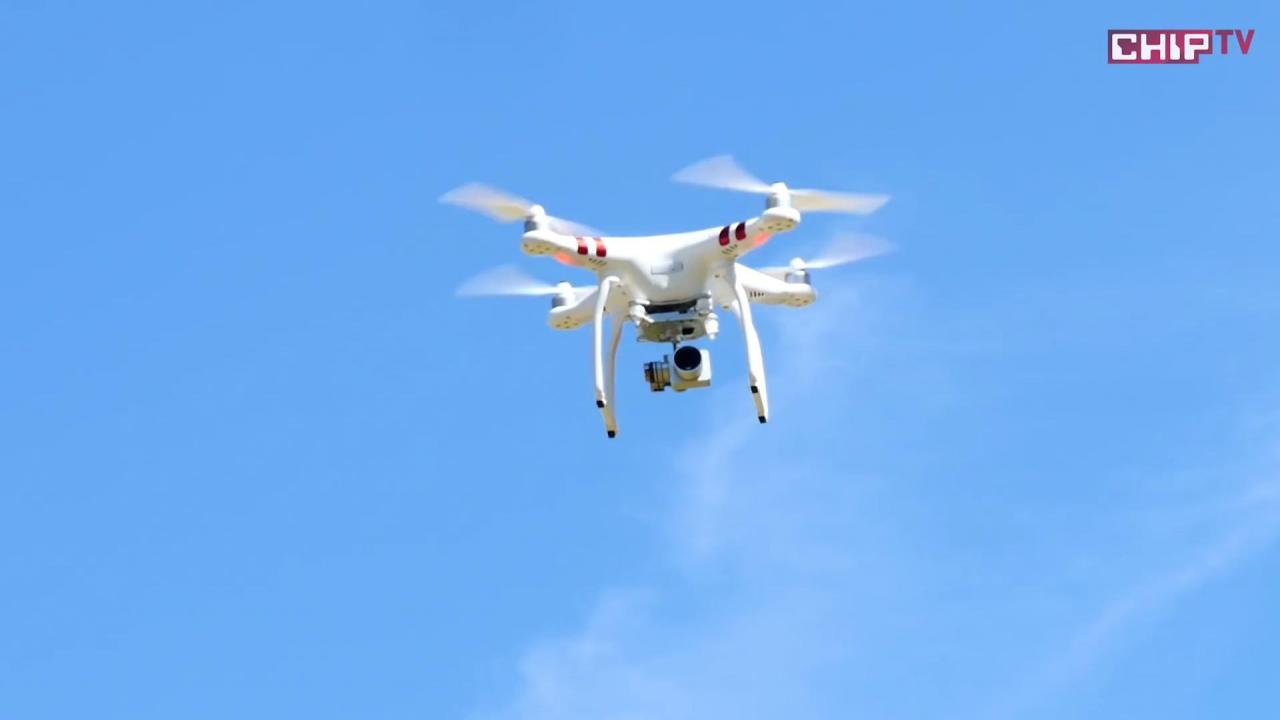Drone: (427, 142, 909, 449)
